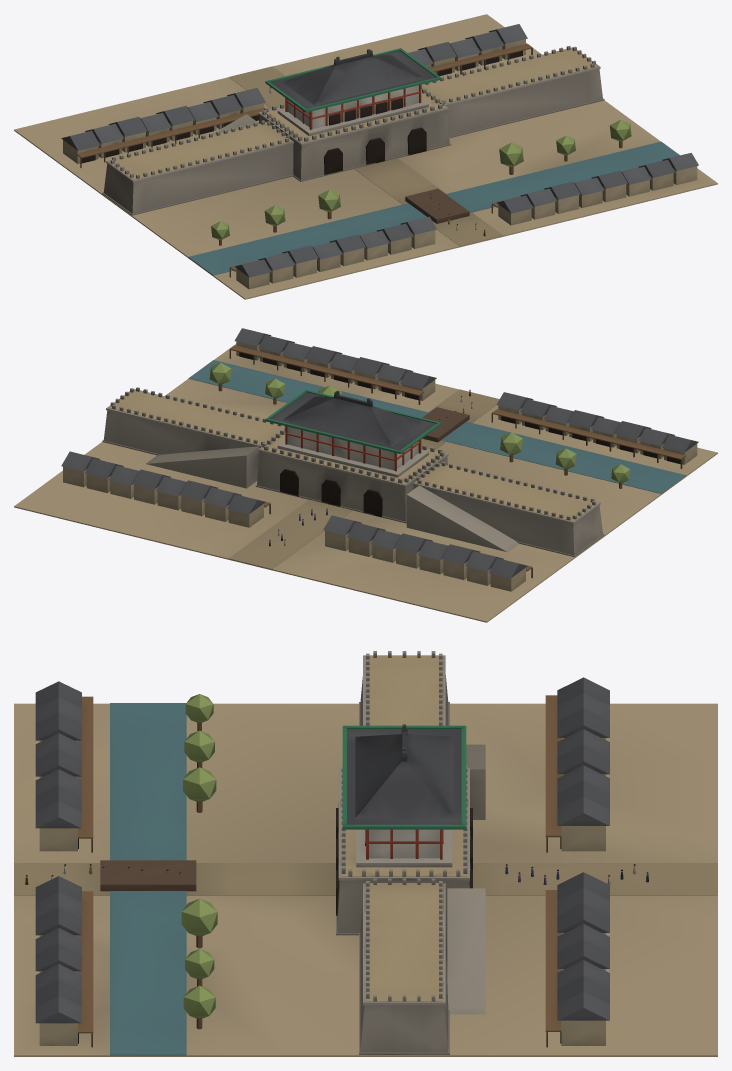
The model's file is south-gate.glb.
The picture shows the model from 3 angles, top to bottom: view 1: azimuth 30°, elevation 25°; view 2: azimuth 150°, elevation 25°; view 3: azimuth 270°, elevation 25°; orthographic projection. The views are drawn at different scales.
Parts seen in each view (by area): view 1: p0_gates, p1_town, p2_town; view 2: p0_gates, p1_town, p2_town; view 3: p0_gates, p1_town, p2_town.
Boxes of the visible parts, <box> form: p0_gates: <box>14,14,717,299</box>; p1_town: <box>61,24,698,289</box>; p2_town: <box>211,48,631,245</box>; p0_gates: <box>14,344,717,622</box>; p1_town: <box>61,328,698,591</box>; p2_town: <box>209,363,630,546</box>; p0_gates: <box>14,651,717,1056</box>; p1_town: <box>35,677,609,1047</box>; p2_town: <box>25,694,648,1029</box>.
Size of the model in its own units: 130 by 24.91 by 110.
